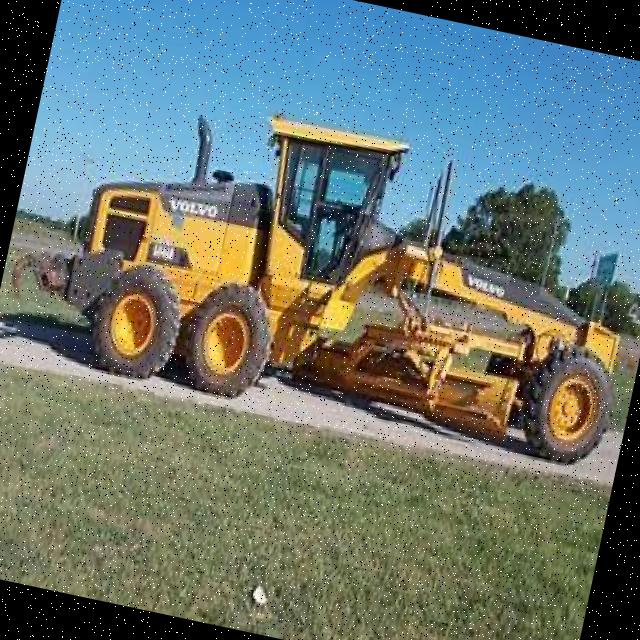Grader: (42, 58, 640, 486)
